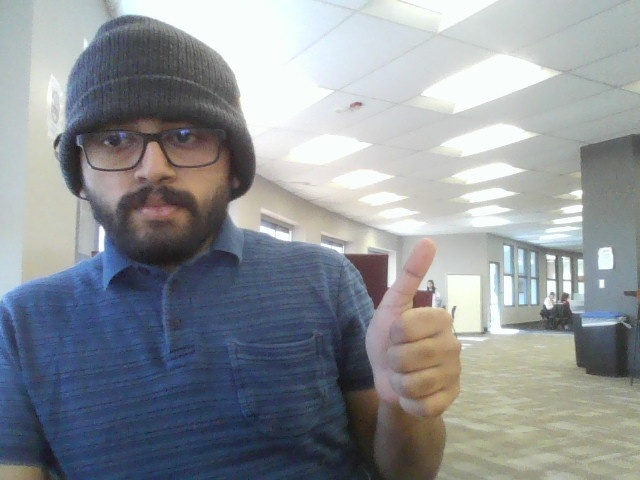confirm: (356, 233, 491, 434)
